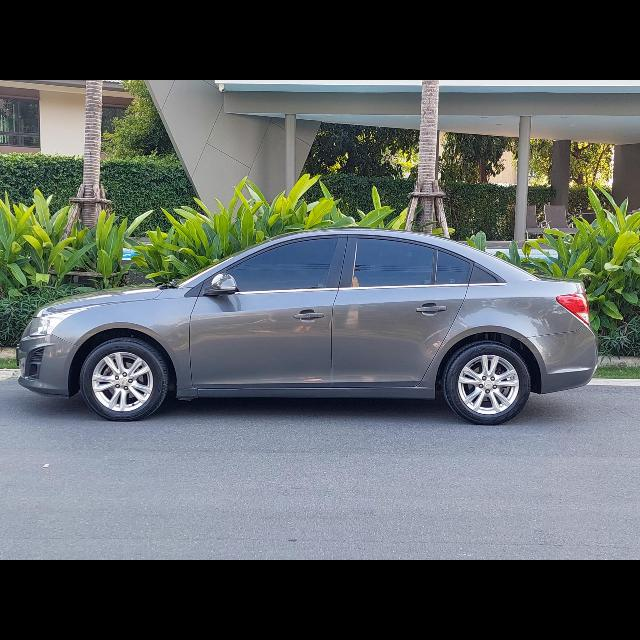cars: (14, 210, 606, 434)
